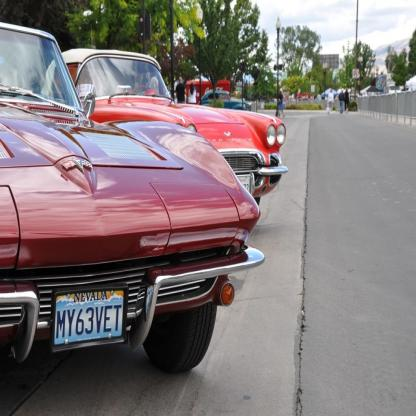Car: (1, 23, 261, 379), (42, 47, 287, 202), (199, 90, 252, 114)
